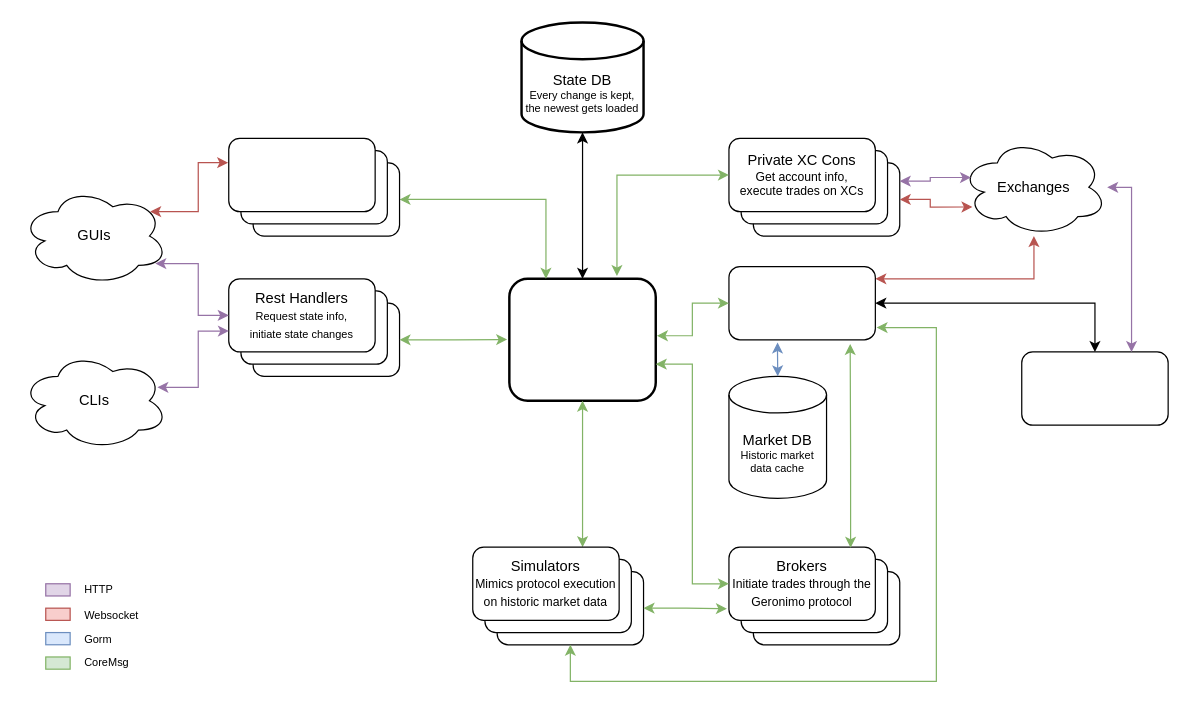
Image size: 1190x714. Some labels were removed from this diagram. Here are the shapes that lost their labels. From the top down, the box of each, then its label:
(228, 137, 375, 212): WebSocket Communicates update information to GUIs
(728, 265, 875, 340): Public XC Conn Gets market info,
(508, 277, 656, 401): Core Handles state. State is persistent, written to and read from DB
(1021, 351, 1168, 425): Data Collector Loads simulation grade market data from XCs
